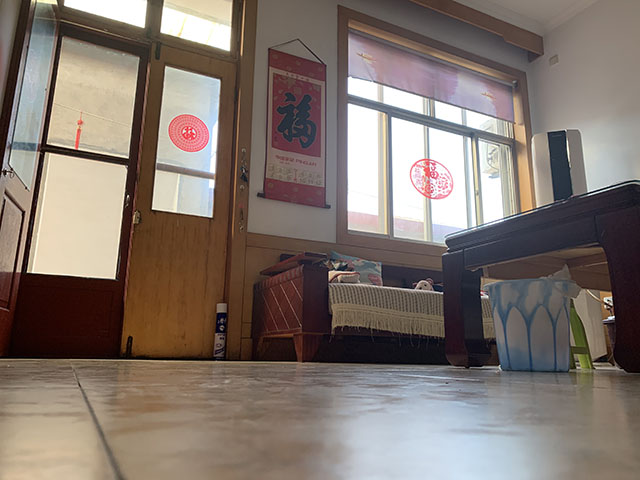sofa: (249, 249, 445, 363)
table: (441, 180, 640, 375)
trashcan: (483, 263, 582, 374)
